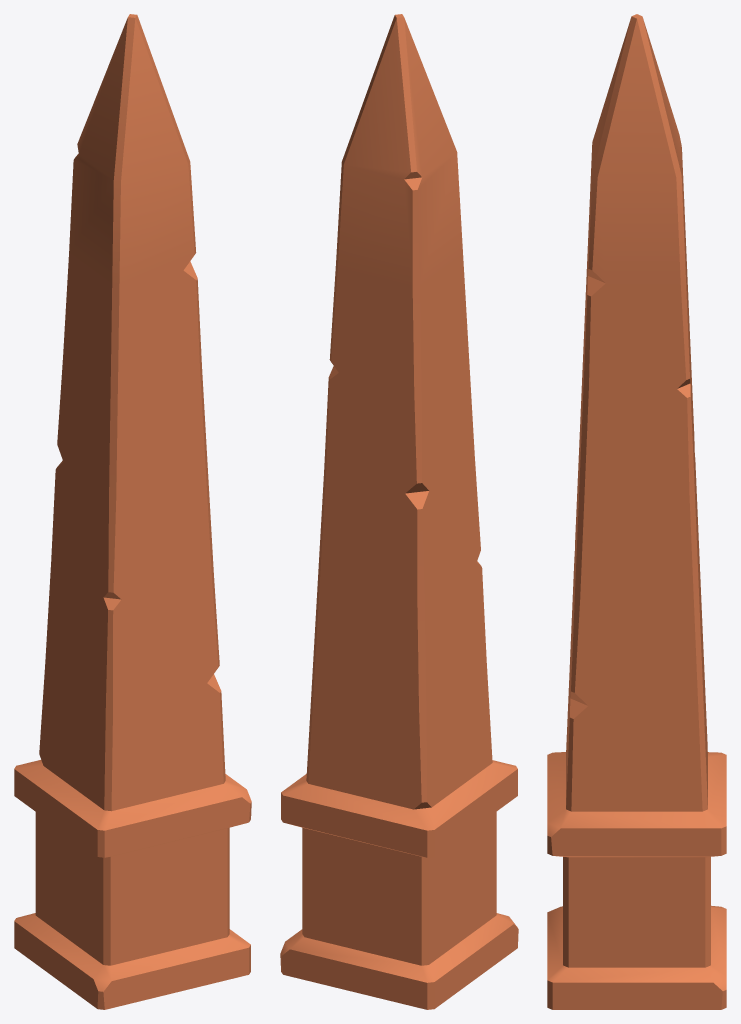
Rendered from Bronze Pillar2.fbx.
3 views of the same model, side by side, from view 1: azimuth 30°, elevation 25°; view 2: azimuth 150°, elevation 25°; view 3: azimuth 270°, elevation 25° (orthographic).
Parts seen in each view (by area): view 1: Desert_Obelisk_Stand; view 2: Desert_Obelisk_Stand; view 3: Desert_Obelisk_Stand.
Part boxes in pixels (x1,y1,x2,y2): Desert_Obelisk_Stand: [14, 14, 251, 1009]; Desert_Obelisk_Stand: [280, 14, 518, 1009]; Desert_Obelisk_Stand: [547, 14, 726, 1009].
Bounding box in the file's own units: 100 × 589 × 100.
